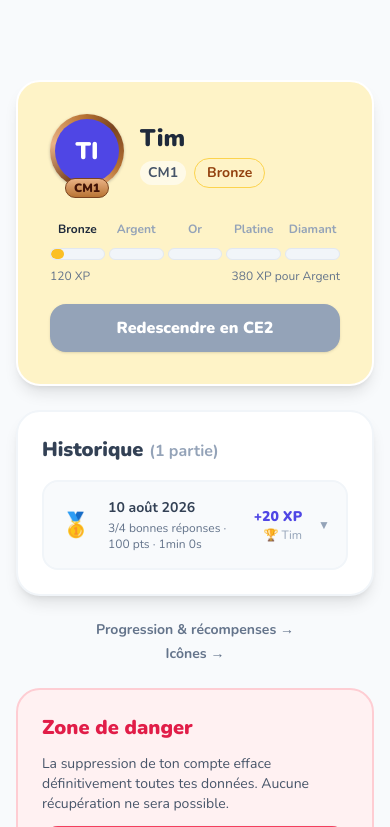
Scenario: ProfilePage history answer dots › shows answer dots instead of X/Y text in the expanded participants table
Click the text "3/4 bonnes réponses · 100 pts · 1min 0s" at {"x": 173, "y": 536}, box [108,520,238,552]
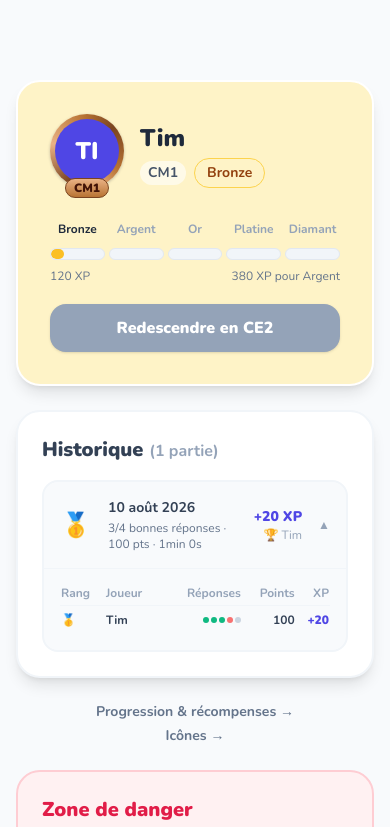
Expected: the number of pictures with test id "dot" is 5, [203,617,209,623]; [211,617,217,623]; [219,617,225,623]; [227,617,233,623]; [235,617,241,623]
